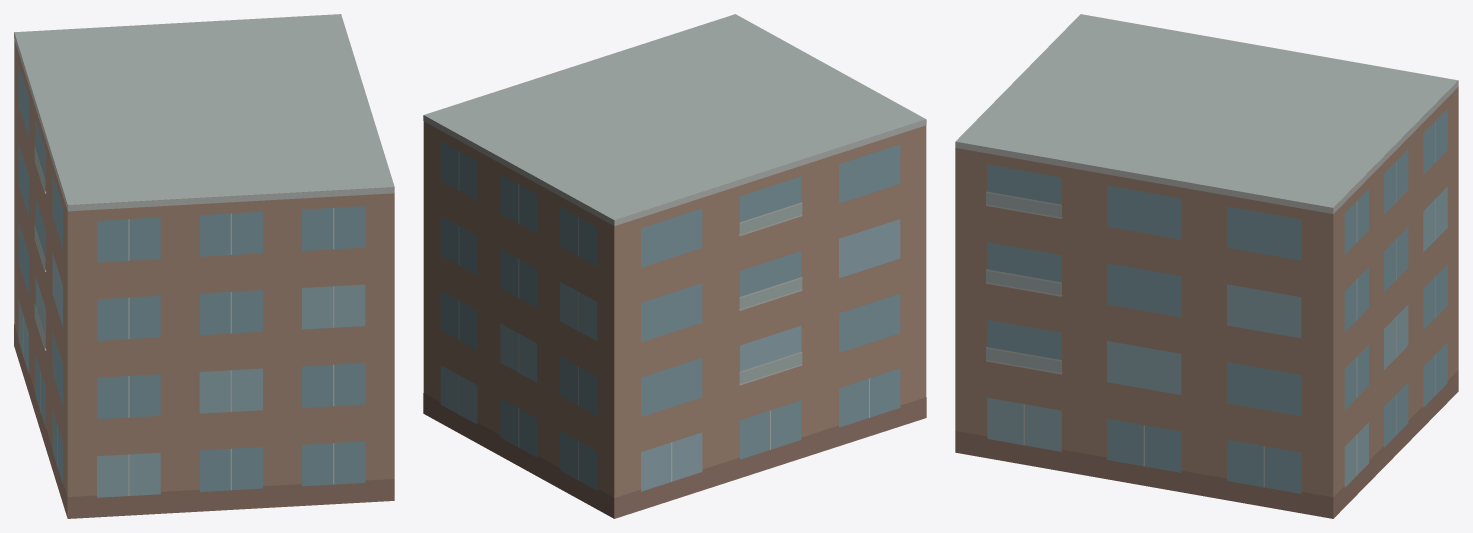
Rendered from residential-92ce0a60-c3f3-4146-a982-cebf9afbbaea.glb.
The picture shows the model from 3 angles, left to right: view 1: azimuth 30°, elevation 25°; view 2: azimuth 150°, elevation 25°; view 3: azimuth 270°, elevation 25°; orthographic projection. The views are drawn at different scales.
Visible parts, largest first — view 1: residential-92ce0a60-c3f3-4146-a982-cebf9afbbaea.tmp; view 2: residential-92ce0a60-c3f3-4146-a982-cebf9afbbaea.tmp; view 3: residential-92ce0a60-c3f3-4146-a982-cebf9afbbaea.tmp.
Part boxes in pixels (<box>): residential-92ce0a60-c3f3-4146-a982-cebf9afbbaea.tmp: <box>14,14,394,518</box>; residential-92ce0a60-c3f3-4146-a982-cebf9afbbaea.tmp: <box>423,14,926,518</box>; residential-92ce0a60-c3f3-4146-a982-cebf9afbbaea.tmp: <box>955,14,1458,518</box>.
Size of the model in its own units: 16.32 by 12.2 by 17.9.
